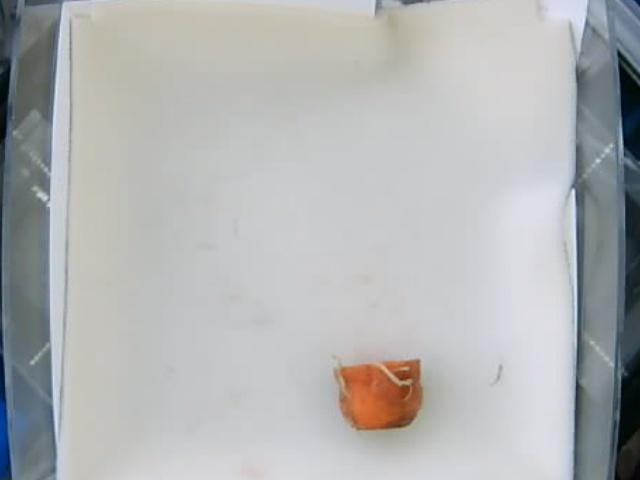Carrot: (332, 358, 422, 435)
